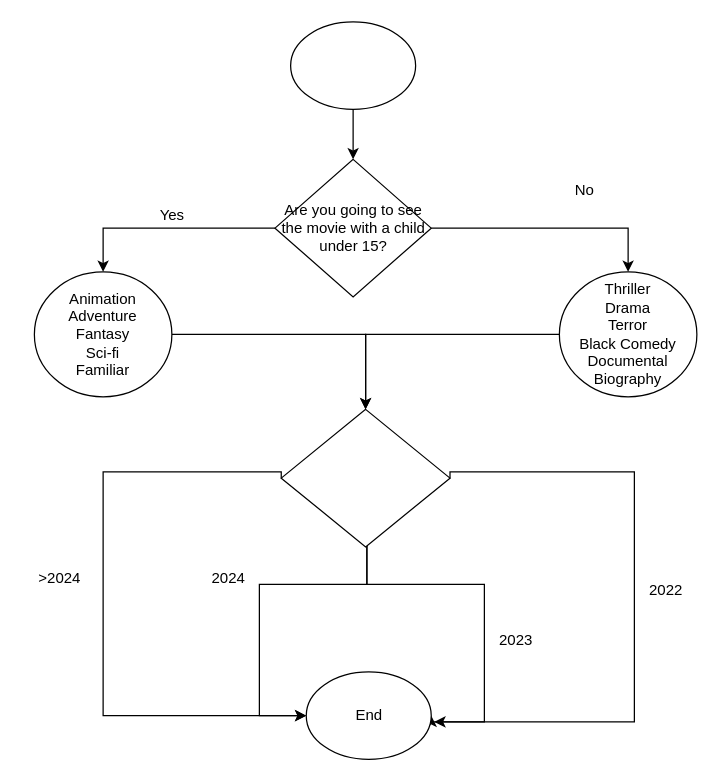
This 719x781 diagram has some shape labels left out. The centre of each missing label's shape, as x and y in pixels:
Begin: point 352,65
Year Premier Movie Choice?: point 365,477
